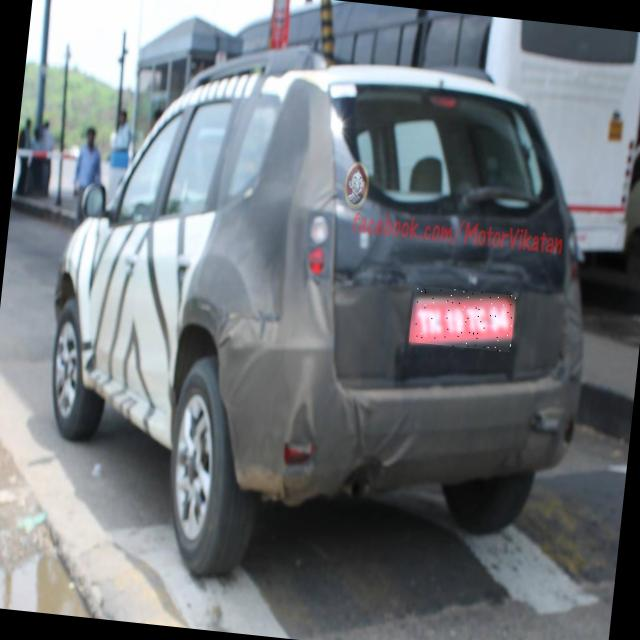Plate: (410, 286, 517, 353)
